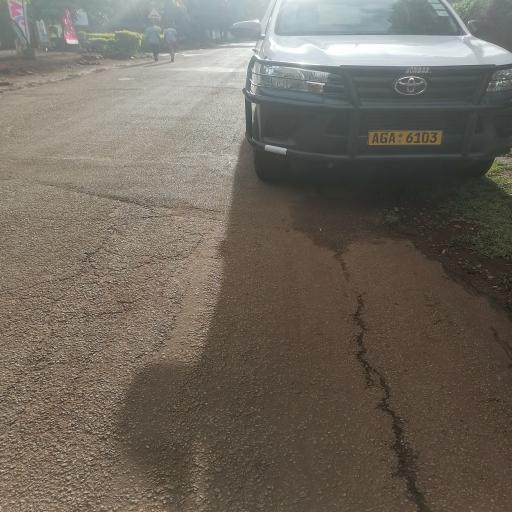number-plates: (358, 128, 452, 149)
